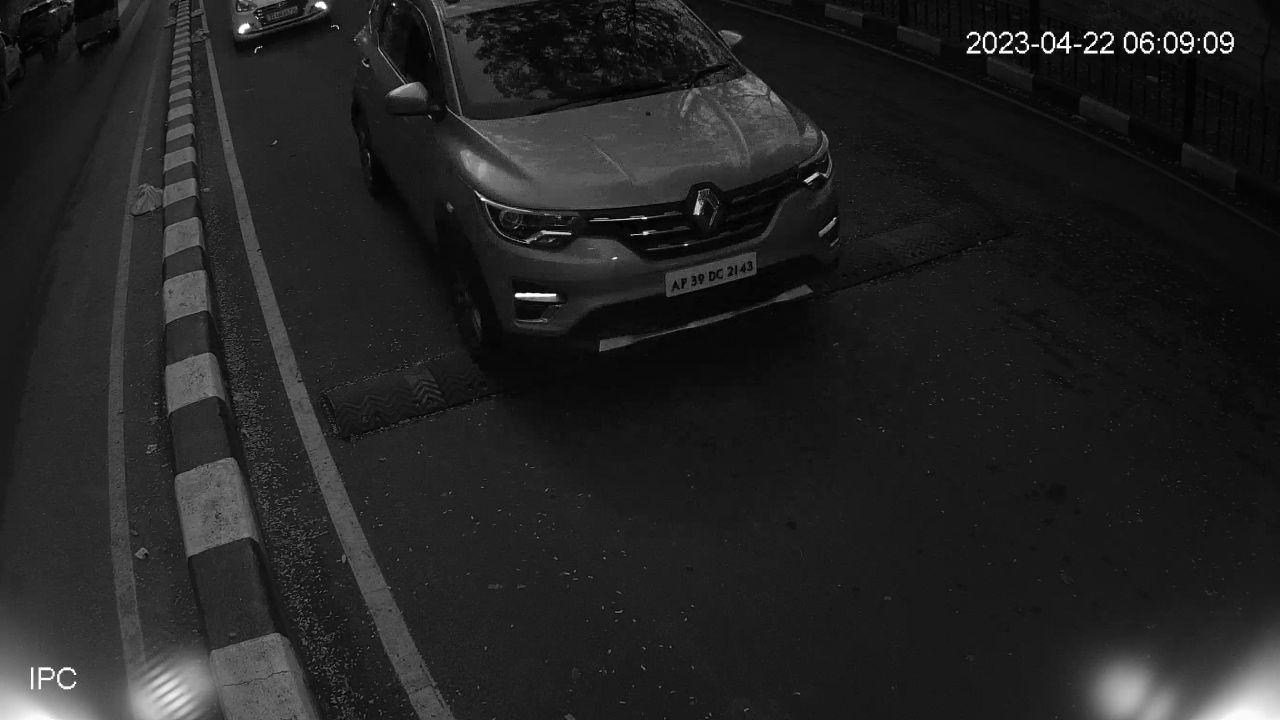license_plate: (663, 247, 761, 303)
